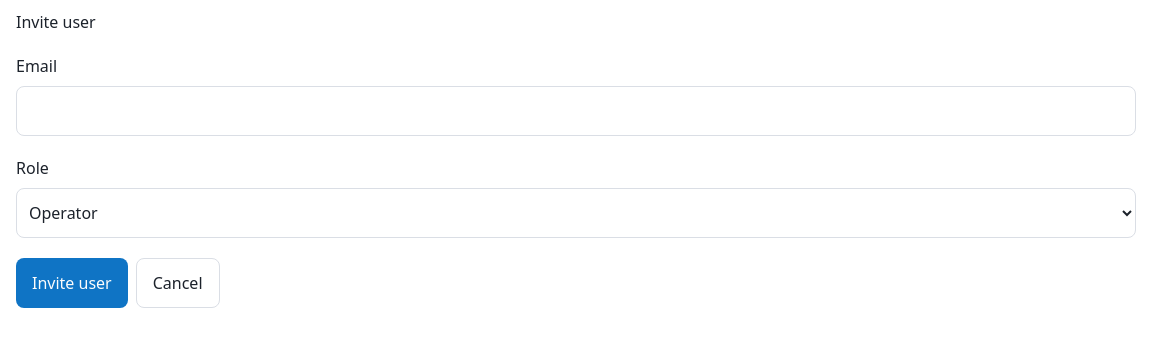
Test: InviteUserForm › rejects a malformed email
The width and height of the screenshot is (1152, 357).
Type "nope" into the field labelled "Email".
click(576, 111); type("nope")  # box top-left (16, 86), bottom-right (1136, 136)
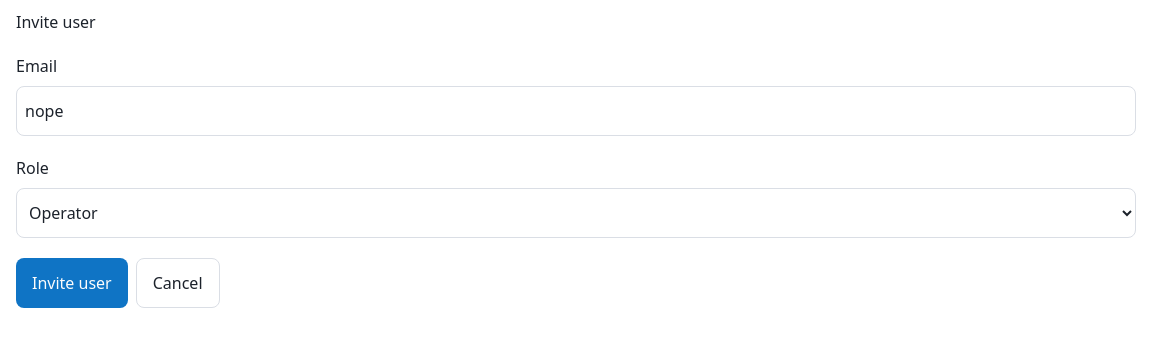
Click the button "Invite user".
click(72, 283)  # box top-left (16, 258), bottom-right (128, 308)
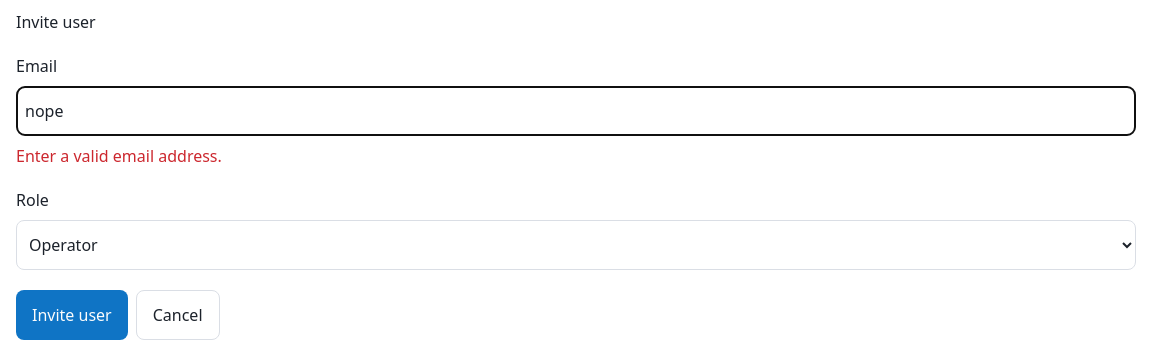
Now the text "Enter a valid email address." is shown, box top-left (16, 145), bottom-right (222, 167)
